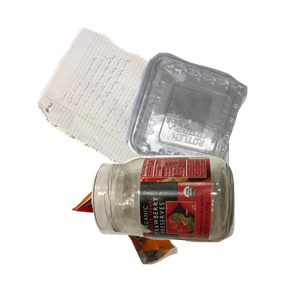glass: (89, 153, 300, 300)
paper: (35, 25, 232, 204)
plastic: (123, 50, 300, 214)
trash: (69, 153, 239, 300)
